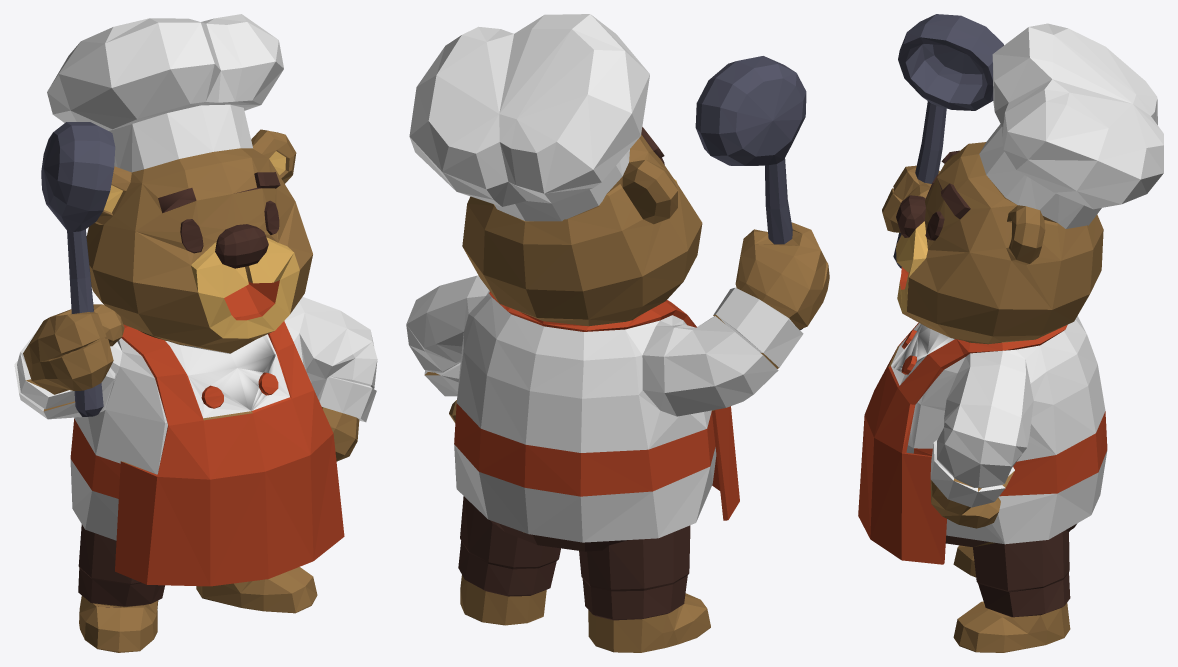
The model's file is bear_03.fbx.
The picture shows the model from 3 angles, left to right: view 1: azimuth 30°, elevation 25°; view 2: azimuth 150°, elevation 25°; view 3: azimuth 270°, elevation 25°; orthographic projection. The views are drawn at different scales.
Parts seen in each view (by area): view 1: bear_03; view 2: bear_03; view 3: bear_03.
Boxes of the visible parts, box(x1,y1,x2,y2) form: bear_03: box(14, 14, 377, 652); bear_03: box(406, 14, 829, 652); bear_03: box(858, 14, 1163, 652).
Size of the model in its own units: 136 by 210 by 103.
